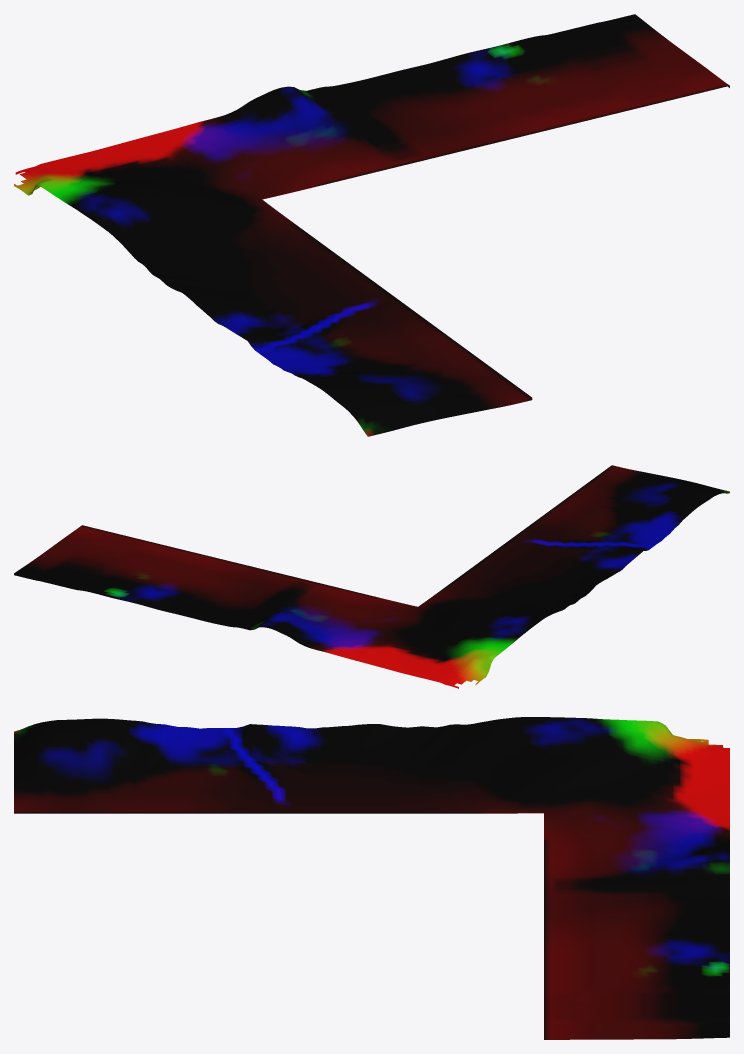
Rendered from coast_-400_-400_400.glb.
The picture shows the model from 3 angles, top to bottom: view 1: azimuth 30°, elevation 25°; view 2: azimuth 150°, elevation 25°; view 3: azimuth 270°, elevation 25°; orthographic projection. The views are drawn at different scales.
Visible parts, largest first — view 1: terrain; view 2: terrain; view 3: terrain.
Boxes of the visible parts, x1=… form: terrain: x1=14, y1=14, x2=729, y2=436; terrain: x1=14, y1=465, x2=729, y2=688; terrain: x1=14, y1=717, x2=729, y2=1039.
Bounding box in the file's own units: 400 × 15.75 × 400.
